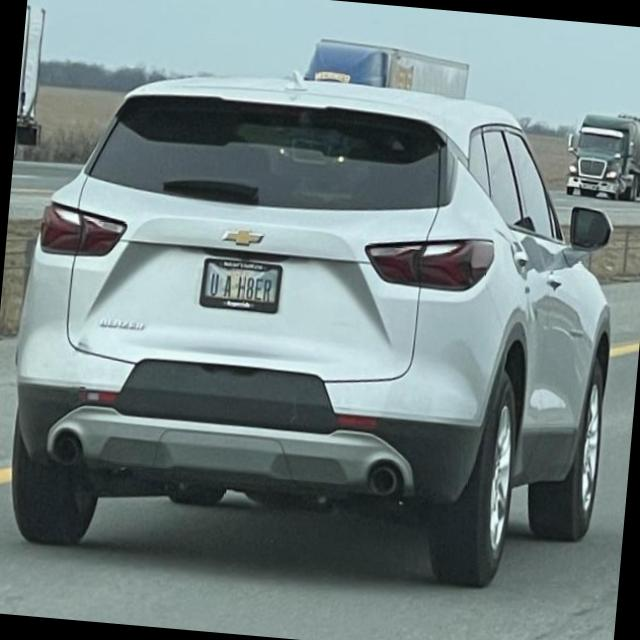LicensePlate: (198, 255, 283, 315)
